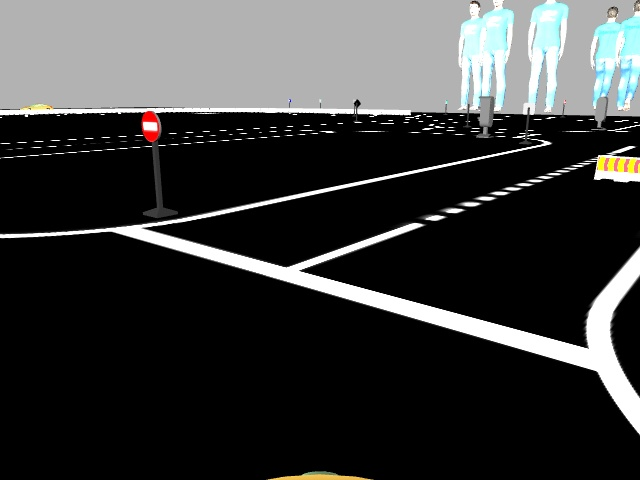ClosedRoadStand: (598, 156, 639, 180)
NoEntry: (139, 108, 161, 141)
